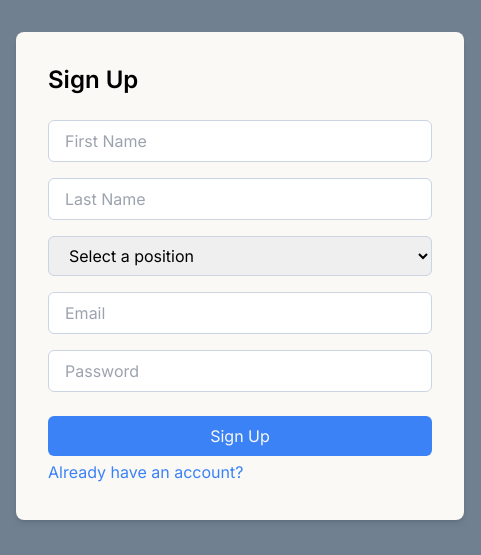
Test: Signup Component › displays error message when password is too short
Type "test@example.com" into the field with placeholder "Email" at coordinates (240, 313), box [48, 292, 432, 334]
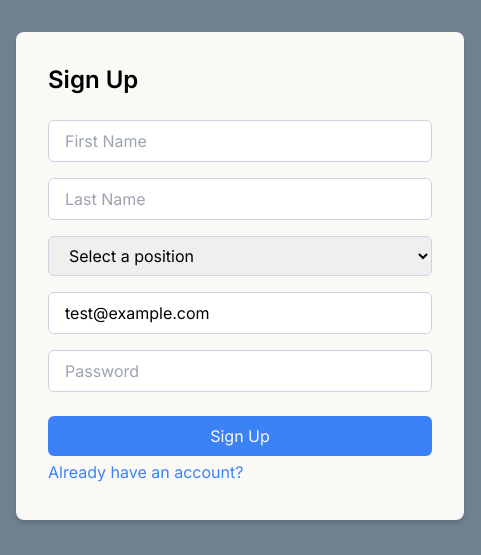
Type "short" into the password field with placeholder "Password" at coordinates (240, 371), box [48, 350, 432, 392]
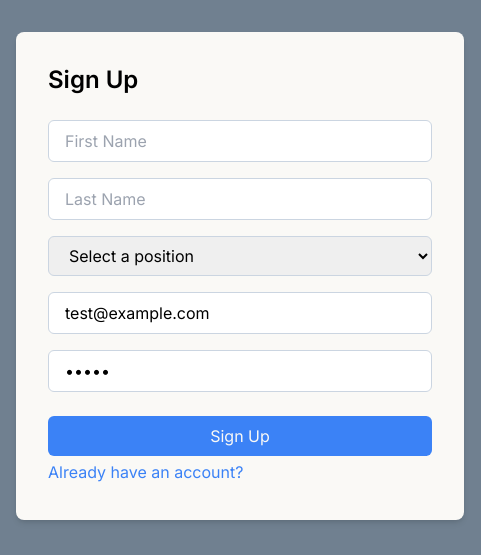
Click the button "Sign Up" at coordinates (240, 436), box [48, 416, 432, 456]
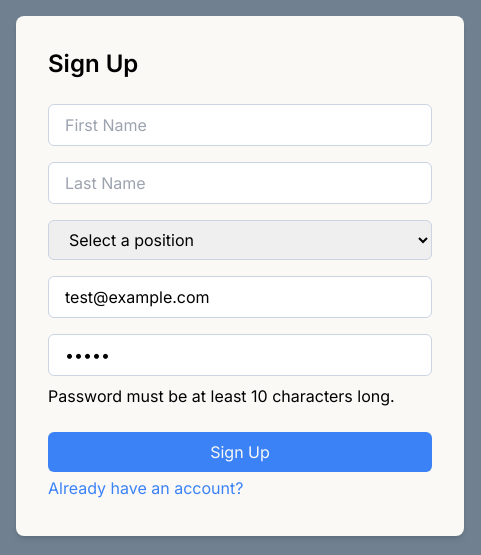
Check: the text "Password must be at least 10 characters long." is shown, box [48, 384, 432, 408]
